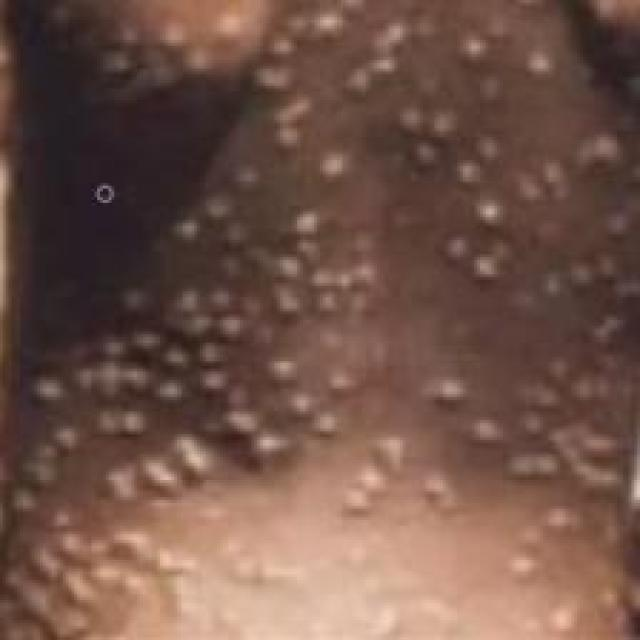monkeypox: (23, 0, 632, 640)
